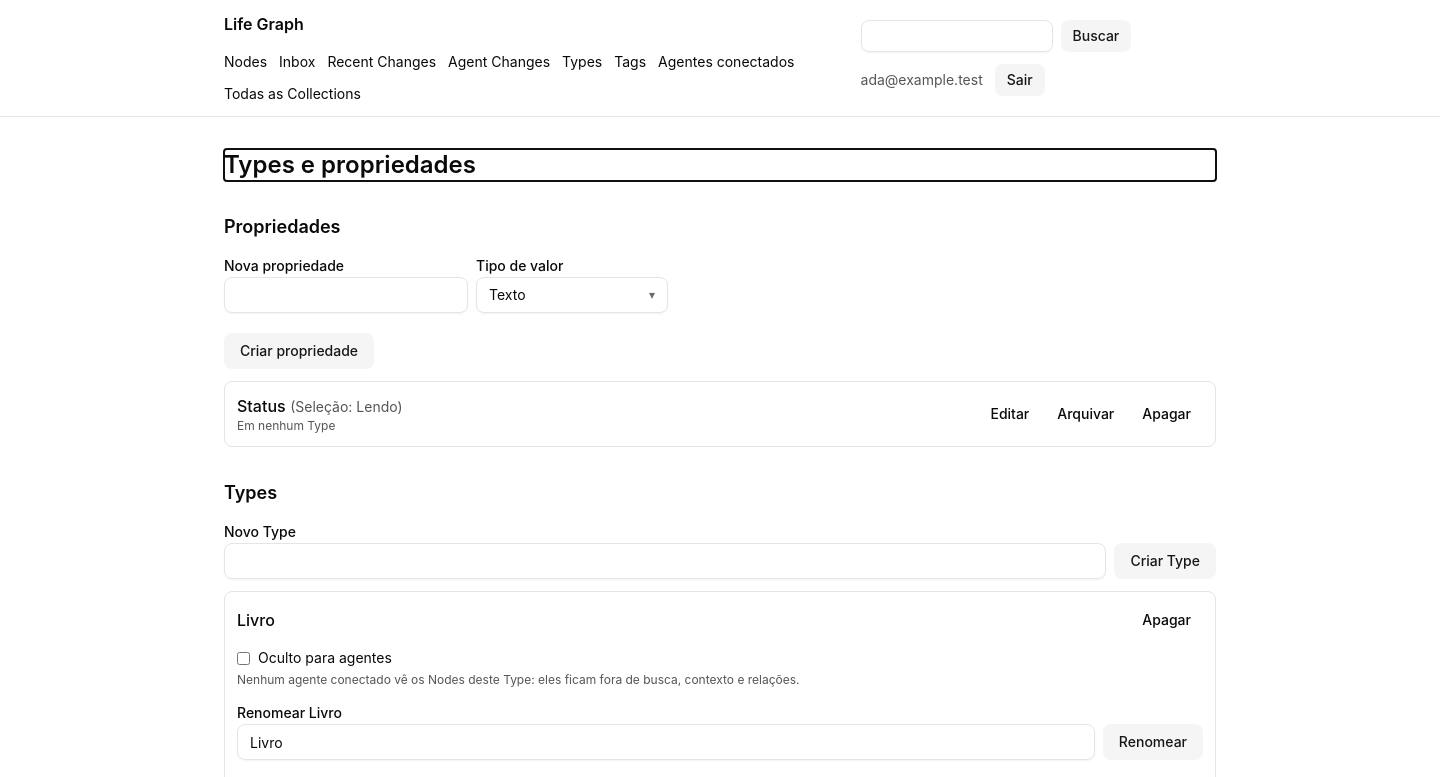
types and properties › keeps the id of an option it keeps when editing the options
Click the button with aria-label "Editar Status": coordinates (1010, 414) [978, 398, 1041, 430]
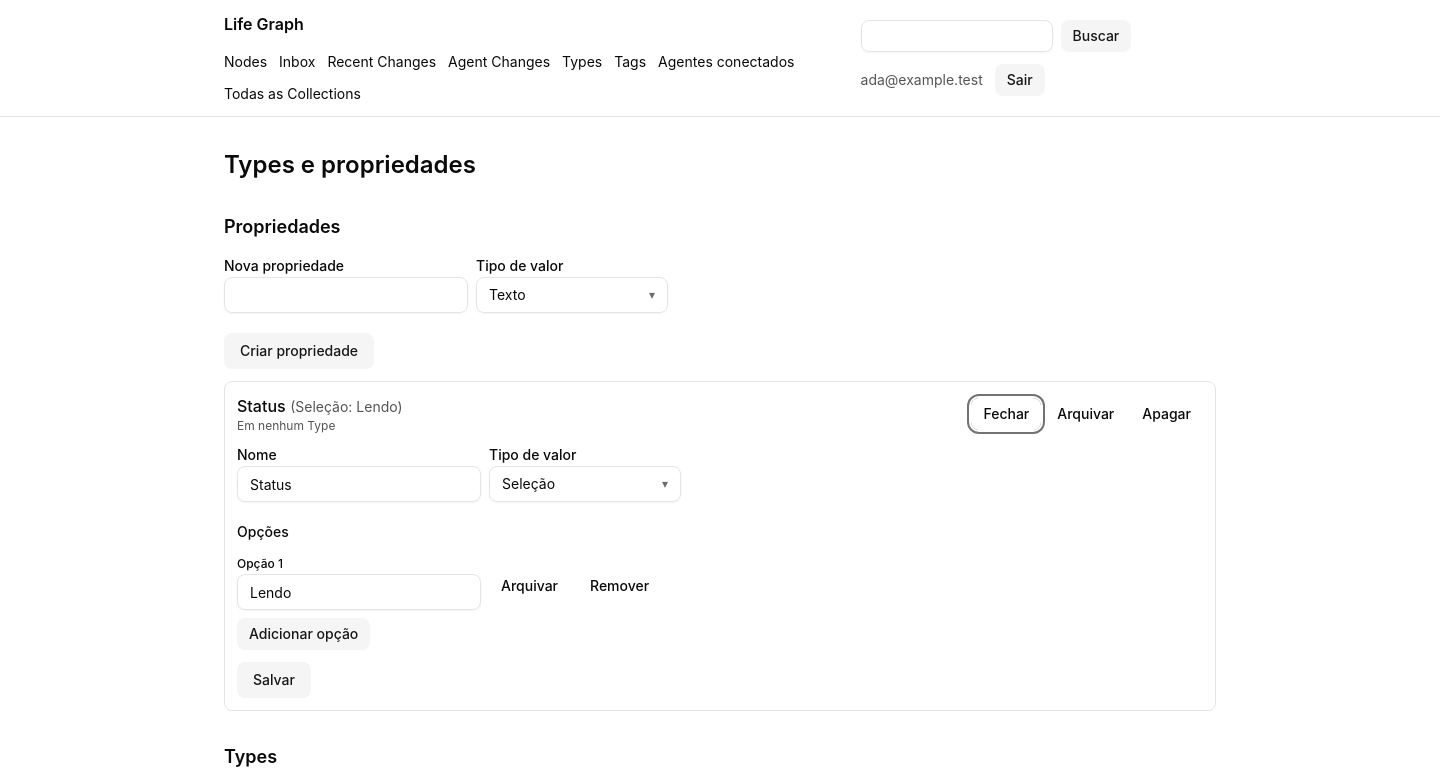
Click the button "Adicionar opção": coordinates (304, 634) [237, 618, 370, 650]
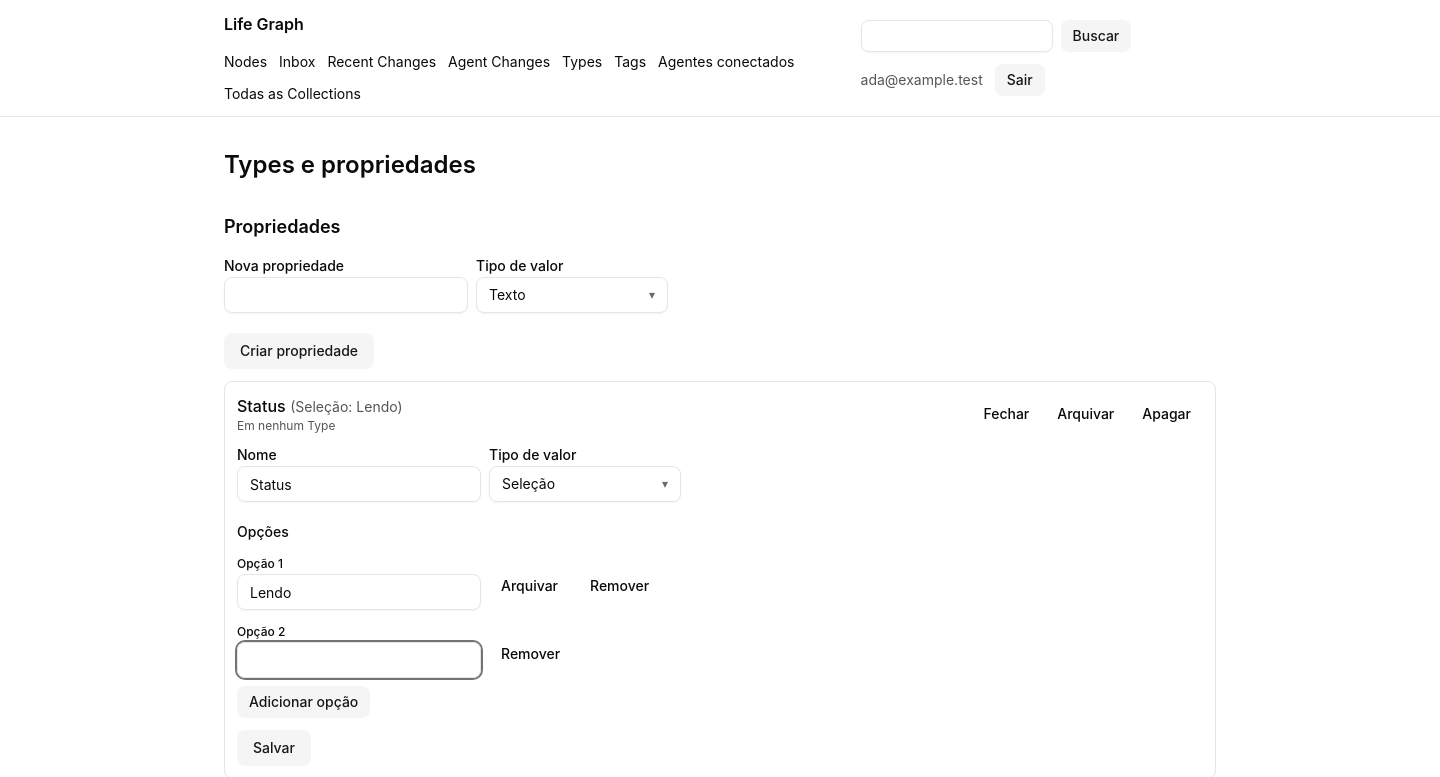
In the field labelled "Opção 2": coordinates (359, 660) [237, 642, 481, 678], type "Lido"
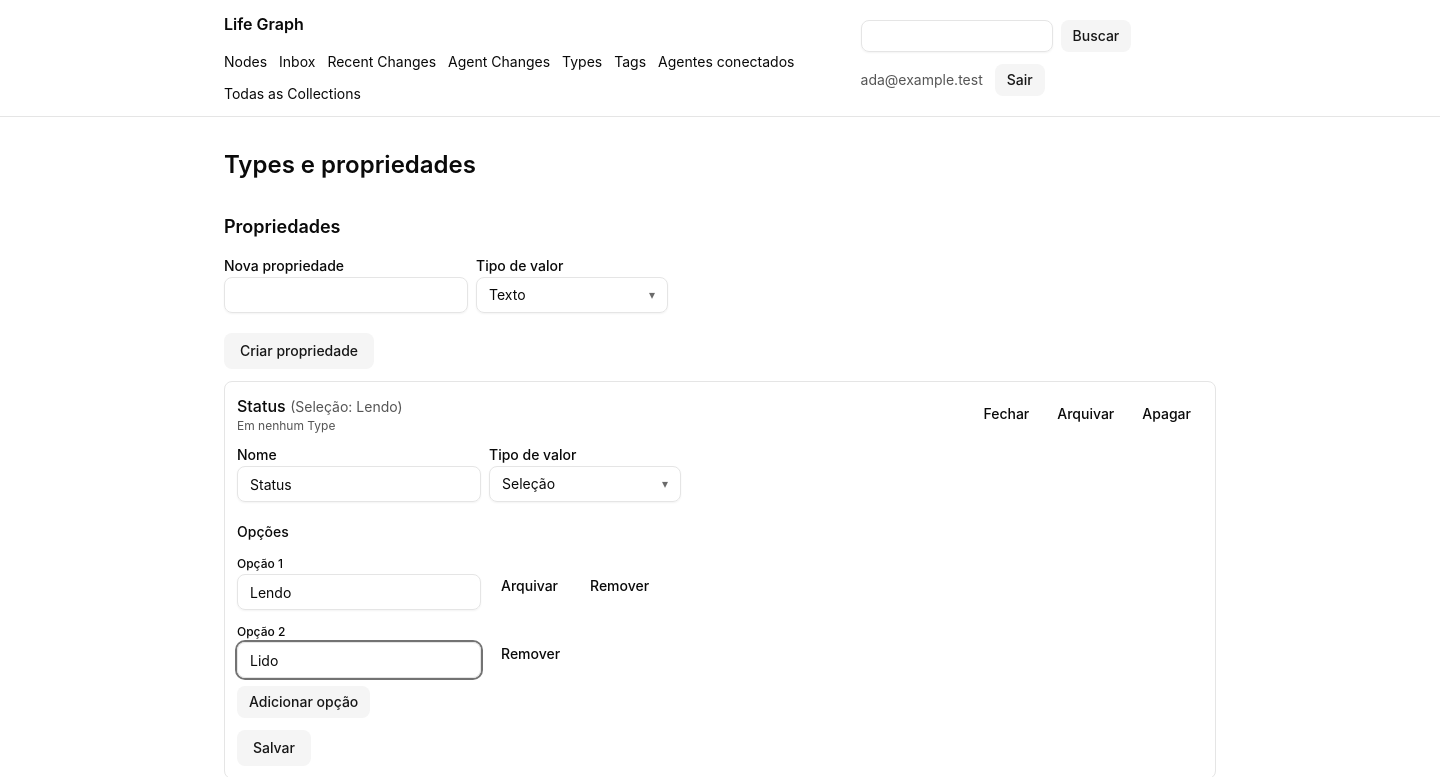
Click the button "Salvar": coordinates (274, 748) [237, 730, 311, 766]
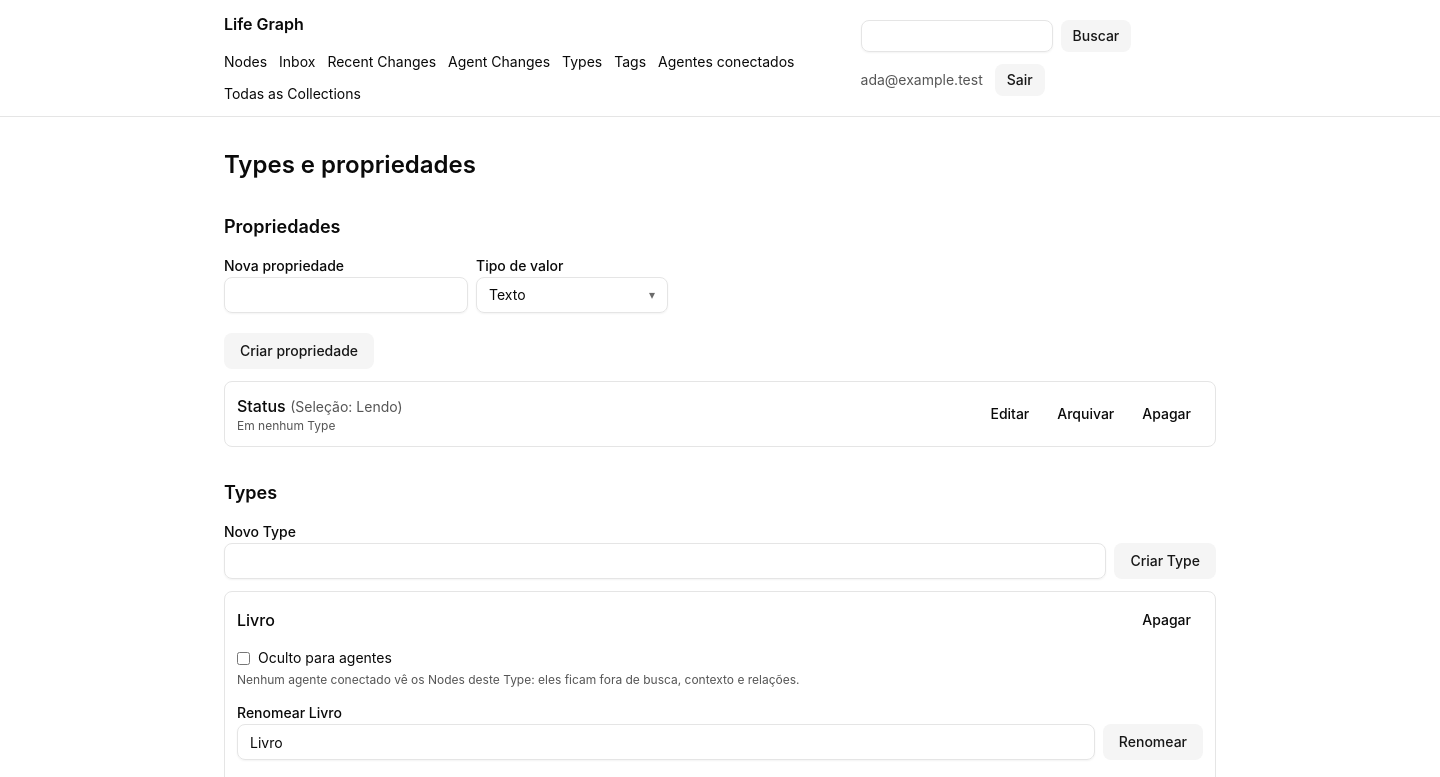
Expected: the button with aria-label "Editar Status" is shown, [978, 398, 1041, 430]
